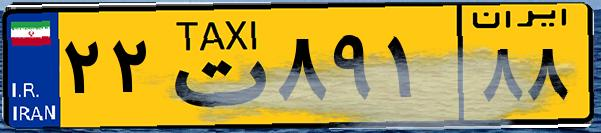1: (385, 28, 445, 110)
2: (57, 26, 110, 100), (110, 28, 158, 98)
8: (270, 28, 330, 110), (475, 38, 525, 113), (525, 38, 570, 115)
9: (330, 28, 385, 110)
ت: (158, 12, 270, 120)
